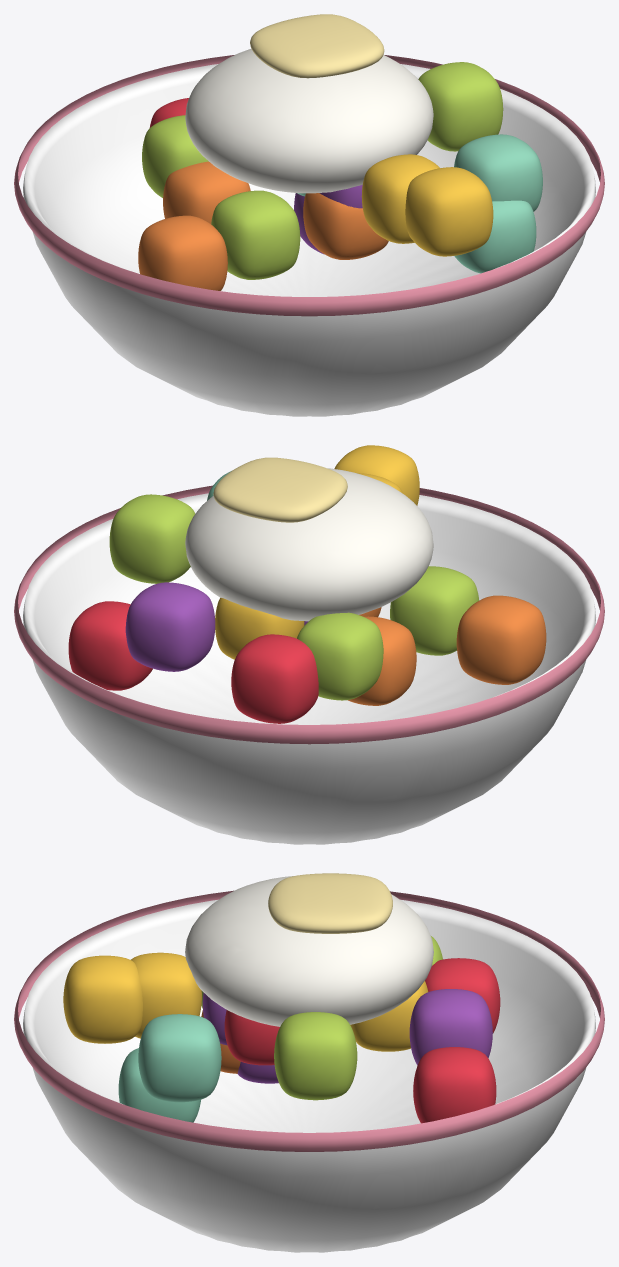
File: comida_ensalada_frutas.glb
3 views of the same model, one above another, from view 1: azimuth 30°, elevation 25°; view 2: azimuth 150°, elevation 25°; view 3: azimuth 270°, elevation 25° (orthographic).
Parts seen in each view (by area): view 1: tazón.005, crema frutas.001, borde tazón.005, fruta 7.001, queso rallado.001, fruta 16.001, fruta 4.001, fruta 9.001, fruta 8.001, fruta 1.001, fruta 15.001, fruta 2.001 (+4 smaller); view 2: tazón.005, crema frutas.001, borde tazón.005, fruta 9.001, fruta 17.001, queso rallado.001, fruta 6.001, fruta 4.001, fruta 10.001, fruta 16.001, fruta 12.001, fruta 3.001 (+2 smaller); view 3: tazón.005, crema frutas.001, borde tazón.005, queso rallado.001, fruta 8.001, fruta 4.001, fruta 7.001, fruta 12.001, fruta 17.001, fruta 1.001, fruta 6.001, fruta 13.001 (+4 smaller).
Part boxes in pixels (x1=…): tazón.005: x1=23, y1=64, x2=595, y2=416; crema frutas.001: x1=185, y1=48, x2=433, y2=193; borde tazón.005: x1=14, y1=55, x2=604, y2=316; fruta 7.001: x1=405, y1=167, x2=493, y2=256; queso rallado.001: x1=250, y1=14, x2=384, y2=78; fruta 16.001: x1=211, y1=190, x2=300, y2=279; fruta 4.001: x1=418, y1=62, x2=503, y2=151; fruta 9.001: x1=138, y1=215, x2=227, y2=290; fruta 8.001: x1=454, y1=134, x2=542, y2=211; fruta 1.001: x1=361, y1=154, x2=439, y2=243; fruta 15.001: x1=303, y1=193, x2=388, y2=259; fruta 2.001: x1=454, y1=200, x2=536, y2=273; tazón.005: x1=23, y1=493, x2=595, y2=844; crema frutas.001: x1=185, y1=468, x2=433, y2=621; borde tazón.005: x1=14, y1=485, x2=604, y2=744; fruta 9.001: x1=456, y1=595, x2=546, y2=684; fruta 17.001: x1=125, y1=582, x2=215, y2=671; queso rallado.001: x1=213, y1=457, x2=347, y2=522; fruta 6.001: x1=231, y1=634, x2=318, y2=723; fruta 4.001: x1=109, y1=494, x2=195, y2=583; fruta 10.001: x1=297, y1=612, x2=383, y2=700; fruta 16.001: x1=390, y1=566, x2=479, y2=655; fruta 12.001: x1=68, y1=601, x2=152, y2=690; fruta 3.001: x1=348, y1=616, x2=416, y2=705; tazón.005: x1=23, y1=899, x2=595, y2=1252; crema frutas.001: x1=185, y1=876, x2=433, y2=1026; borde tazón.005: x1=14, y1=890, x2=604, y2=1151; queso rallado.001: x1=268, y1=873, x2=392, y2=933; fruta 8.001: x1=138, y1=1014, x2=221, y2=1102; fruta 4.001: x1=274, y1=1012, x2=357, y2=1100; fruta 7.001: x1=63, y1=955, x2=142, y2=1043; fruta 12.001: x1=413, y1=1047, x2=496, y2=1123; fruta 17.001: x1=409, y1=989, x2=492, y2=1065; fruta 1.001: x1=131, y1=952, x2=201, y2=1038; fruta 6.001: x1=425, y1=958, x2=500, y2=1033; fruta 13.001: x1=350, y1=981, x2=428, y2=1051.
Bounding box in the file's own units: 0.2795 × 0.1659 × 0.2795.
